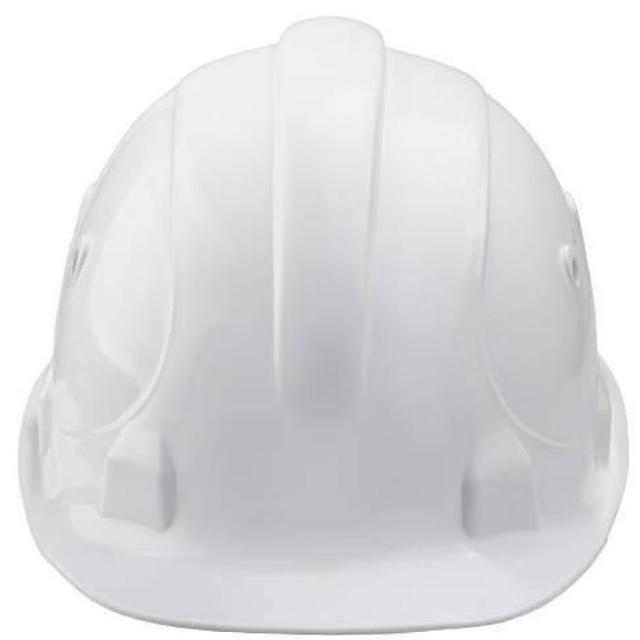helmet: (17, 14, 631, 634)
